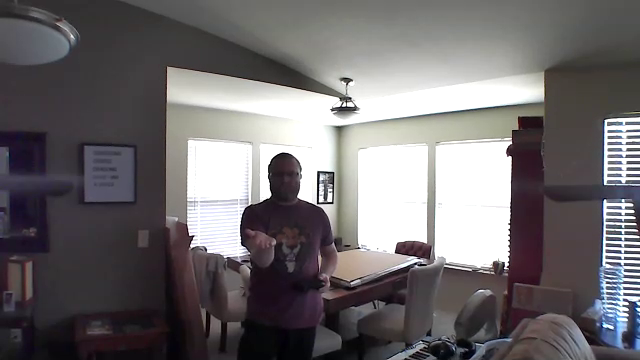land: (244, 226, 279, 255)
